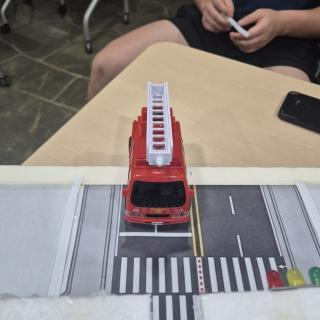Fire_truck: (123, 85, 193, 225)
